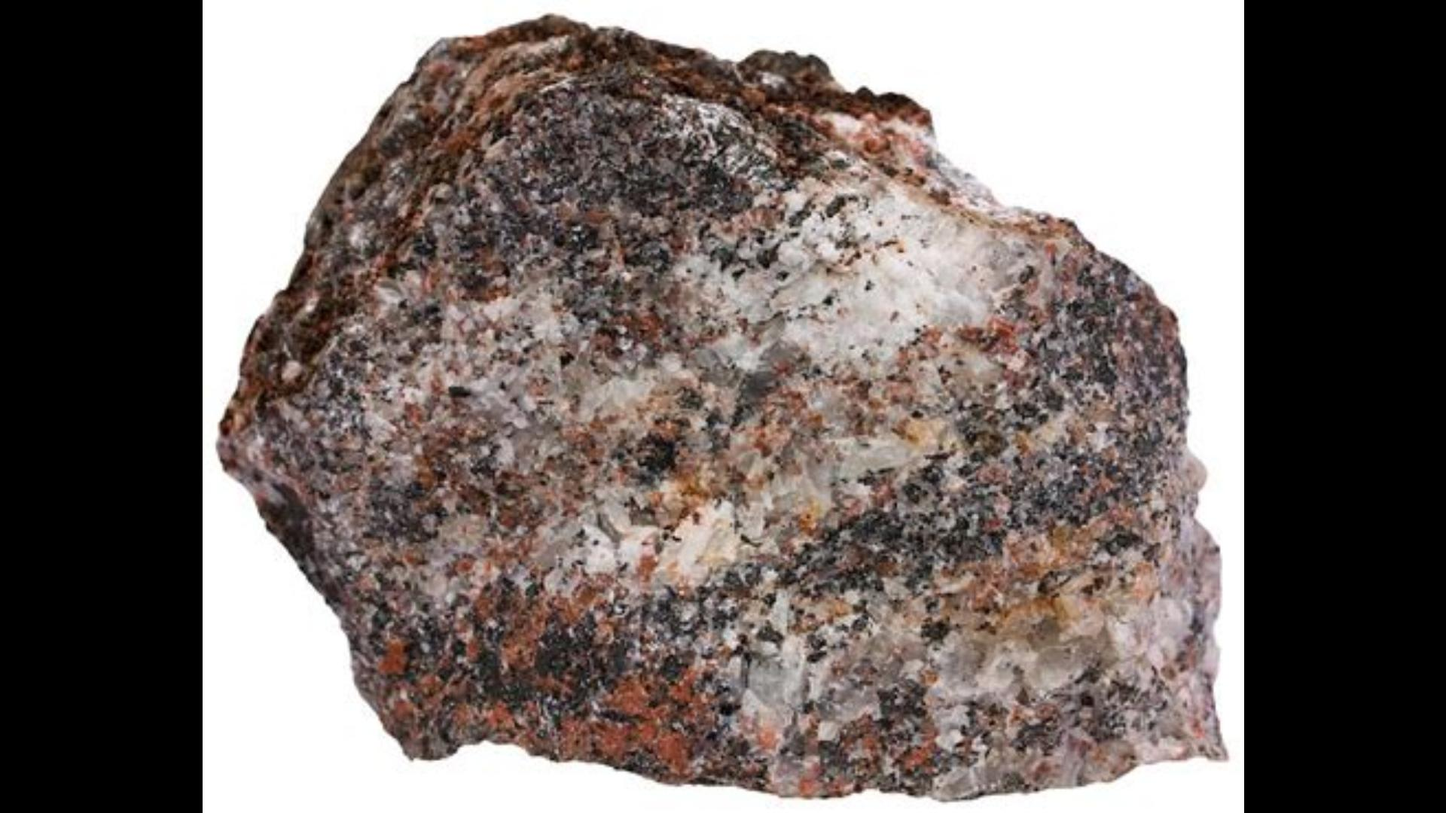rock: (217, 18, 1222, 795)
